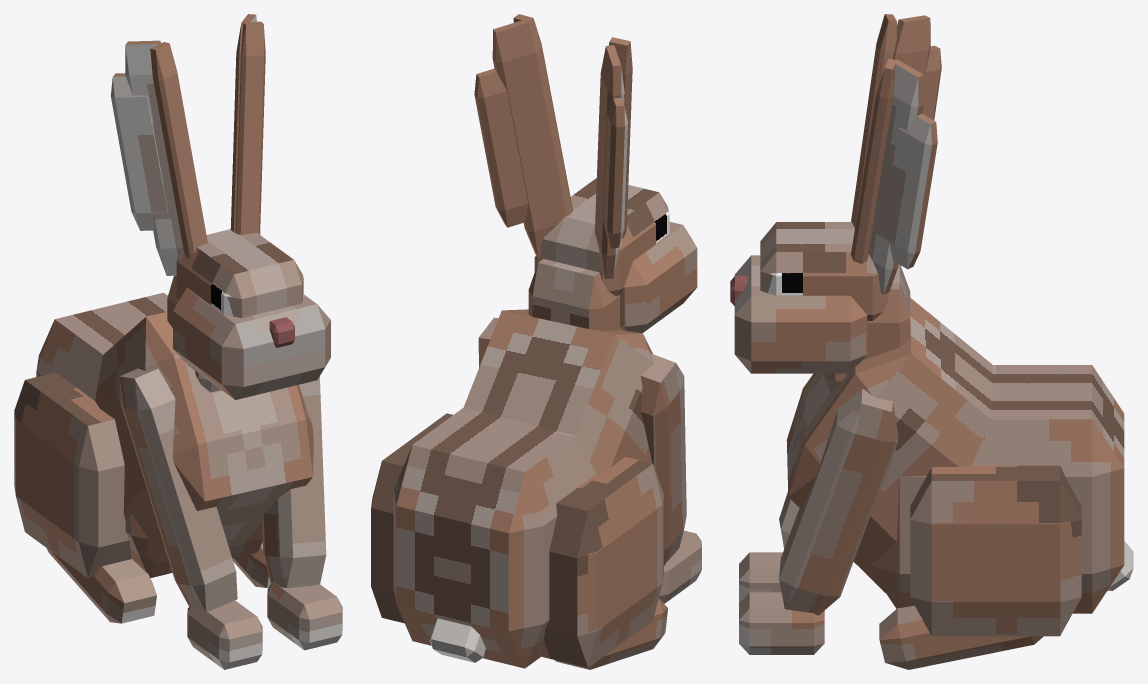
The model's file is LapinBeigeMarron.fbx.
The picture shows the model from 3 angles, left to right: view 1: azimuth 30°, elevation 25°; view 2: azimuth 150°, elevation 25°; view 3: azimuth 270°, elevation 25°; orthographic projection. The views are drawn at different scales.
Parts seen in each view (by area): view 1: UpperBody, RightThigh, RightLeg, Jaw, Cranium, LowerBody, LeftLeg, beveled_cuboid_5, beveled_cuboid, beveled_cuboid_3, LeftPaw, beveled_cuboid_4 (+6 smaller); view 2: LowerBody, RightThigh, UpperBody, beveled_cuboid_1, Cranium, RightLeg, Jaw, beveled_cuboid_2, Neck, LeftThigh, beveled_cuboid_3, beveled_cuboid_4 (+5 smaller); view 3: LeftThigh, LowerBody, UpperBody, LeftLeg, Jaw, Cranium, beveled_cuboid_2, LeftBackPaw, LeftPaw, beveled_cuboid_1, beveled_cuboid, Neck (+4 smaller).
Part boxes in pixels (x1,y1,x2,y2): UpperBody: (95, 312, 313, 563); RightThigh: (14, 372, 131, 577); RightLeg: (119, 368, 237, 612); Jaw: (173, 288, 330, 399); Cranium: (176, 229, 303, 317); LowerBody: (36, 292, 262, 578); LeftLeg: (262, 376, 326, 587); beveled_cuboid_5: (150, 42, 207, 258); beveled_cuboid: (235, 21, 265, 234); beveled_cuboid_3: (110, 73, 168, 230); LeftPaw: (267, 582, 342, 650); beveled_cuboid_4: (125, 40, 182, 275); LowerBody: (393, 407, 596, 668); RightThigh: (541, 457, 663, 667); UpperBody: (463, 309, 652, 473); beveled_cuboid_1: (492, 19, 570, 257); Cranium: (538, 178, 669, 296); RightLeg: (640, 353, 686, 565); Jaw: (534, 222, 697, 333); beveled_cuboid_2: (474, 68, 528, 227); Neck: (528, 259, 622, 330); LeftThigh: (371, 413, 452, 623); beveled_cuboid_3: (603, 97, 627, 248); beveled_cuboid_4: (595, 45, 624, 278); LeftThigh: (910, 465, 1081, 636); LowerBody: (870, 365, 1124, 613); UpperBody: (786, 298, 992, 592); LeftLeg: (779, 388, 898, 615); Jaw: (734, 255, 867, 373); Cranium: (760, 222, 888, 320); beveled_cuboid_2: (881, 114, 937, 269); LeftBackPaw: (879, 605, 1043, 669); LeftPaw: (739, 592, 824, 654); beveled_cuboid_1: (868, 59, 923, 294); beveled_cuboid: (851, 58, 896, 263); Neck: (824, 264, 910, 392).
Bounding box in the file's own units: 37.5 × 94.26 × 58.85.
8 materials, 8 textured.
